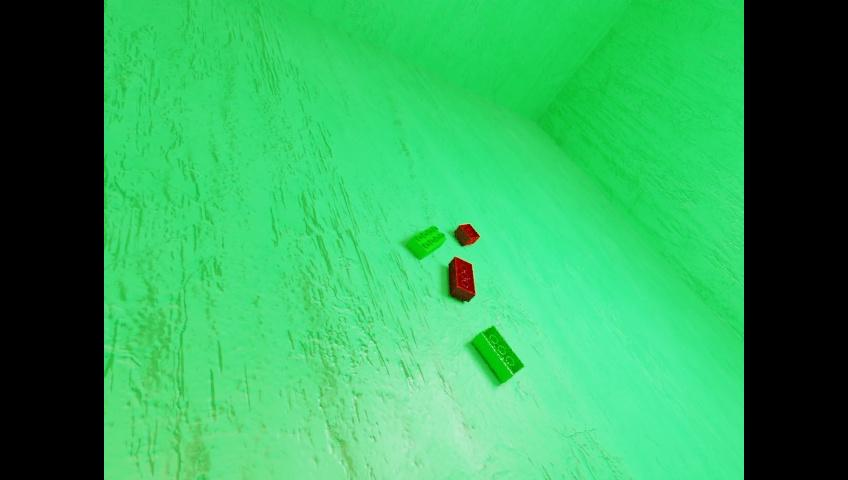2x2_red: (454, 223, 479, 245)
4x2_green: (472, 324, 524, 382), (405, 225, 448, 259)
4x2_red: (449, 256, 476, 303)
